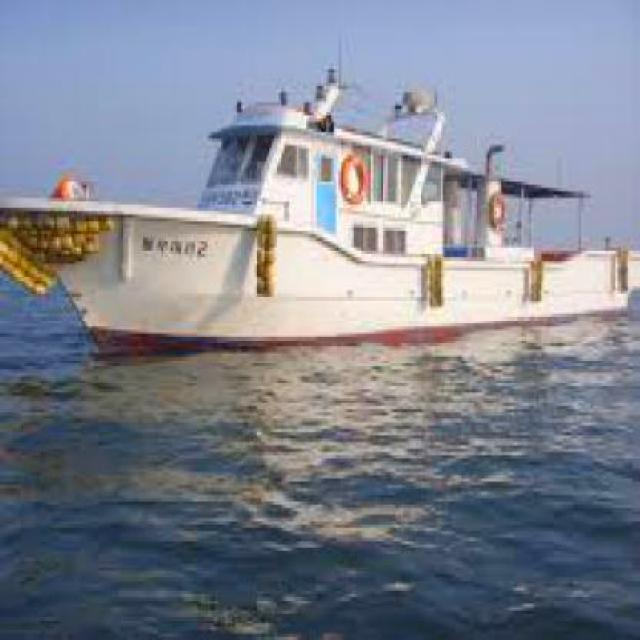no-oil: (24, 352, 640, 628)
